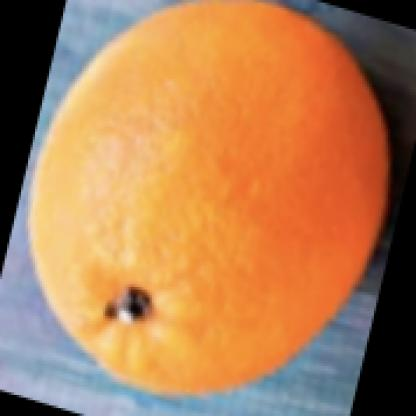fresh: (31, 2, 393, 393)
